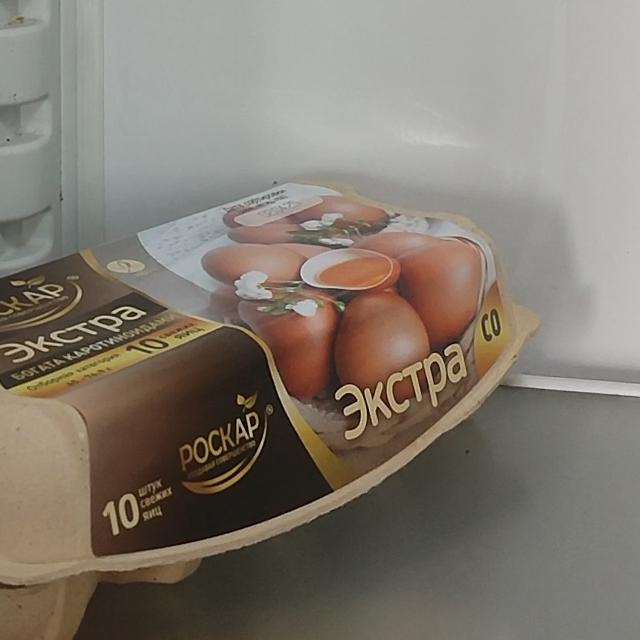egg: (0, 160, 553, 640)
